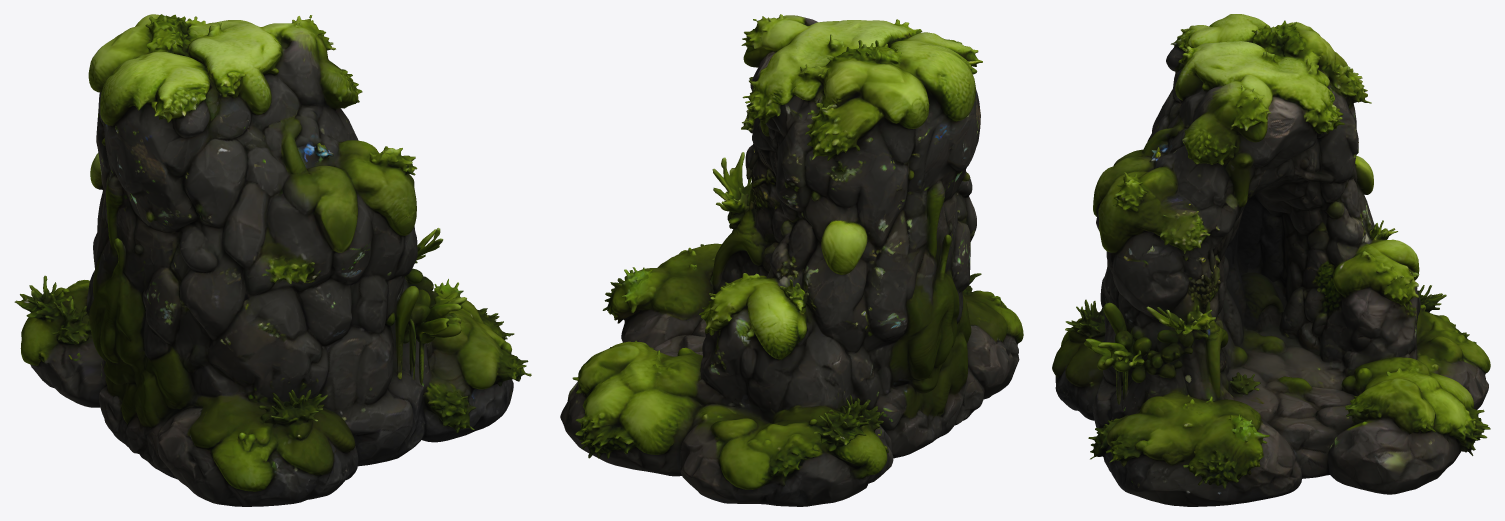
File: nature-glowing-moss.glb
3 views of the same model, side by side, from view 1: azimuth 30°, elevation 25°; view 2: azimuth 150°, elevation 25°; view 3: azimuth 270°, elevation 25° (orthographic). The views are drawn at different scales.
Parts seen in each view (by area): view 1: tripo_node_5486dc77-8844-4cbd-871e-2f34f662d77a; view 2: tripo_node_5486dc77-8844-4cbd-871e-2f34f662d77a; view 3: tripo_node_5486dc77-8844-4cbd-871e-2f34f662d77a.
Part boxes in pixels (box(x1,y1,x2,y2)): tripo_node_5486dc77-8844-4cbd-871e-2f34f662d77a: box(14, 14, 531, 506); tripo_node_5486dc77-8844-4cbd-871e-2f34f662d77a: box(560, 14, 1023, 506); tripo_node_5486dc77-8844-4cbd-871e-2f34f662d77a: box(1052, 14, 1490, 506).
Bounding box in the file's own units: 0.2874 × 0.3 × 0.3139.
1 material, 1 textured.
